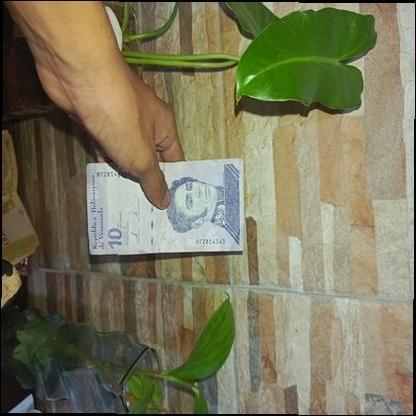vef_front: (86, 158, 244, 254)
